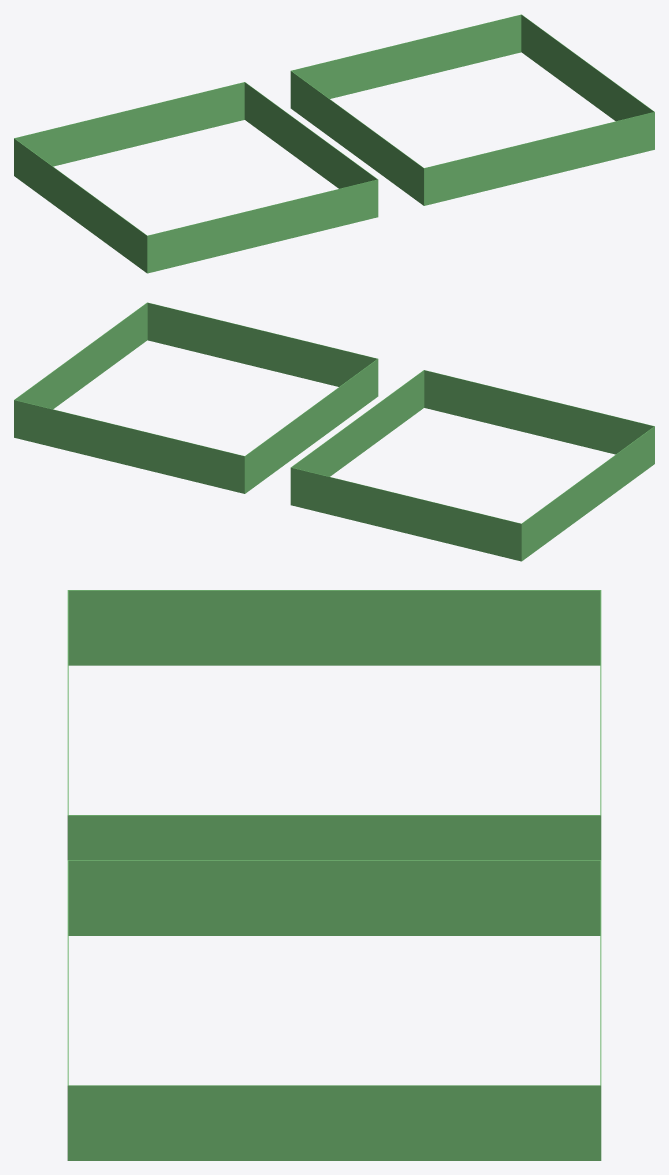
3 renders of one model, top to bottom at view 1: azimuth 30°, elevation 25°; view 2: azimuth 150°, elevation 25°; view 3: azimuth 270°, elevation 25°, orthographic. The views are drawn at different scales.
Visible parts, largest first — view 1: object.014; view 2: object.014; view 3: object.014.
Boxes of the visible parts, <box> form: object.014: <box>14,14,654,273</box>; object.014: <box>14,302,654,561</box>; object.014: <box>67,590,601,1160</box>.
Bounding box in the file's own units: 11.01 × 0.78 × 5.01.
